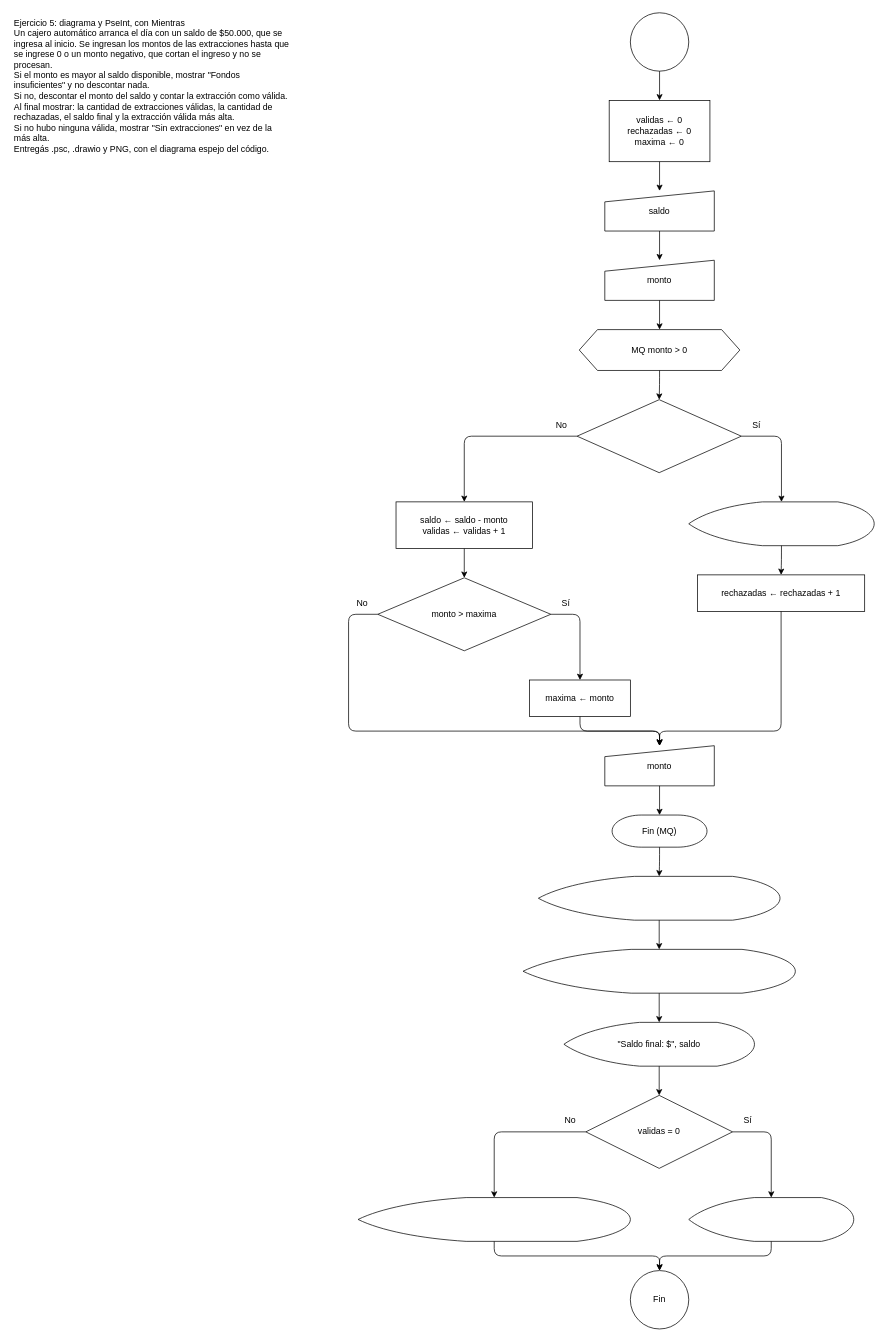
The diagram is 887 pixels wide and 1342 high, and some of its shapes have lost their labels. The shapes that lost their labels are listed below. From the top down, each one's centre as x and y in pixels, then its label:
(659,41): Inicio
(658,436): monto > saldo
(781,523): "Fondos insuficientes"
(659,898): "Extracciones válidas: ", validas
(658,971): "Extracciones rechazadas: ", rechazadas
(493,1219): "Extracción válida más alta: $", maxima
(771,1219): "Sin extracciones"
